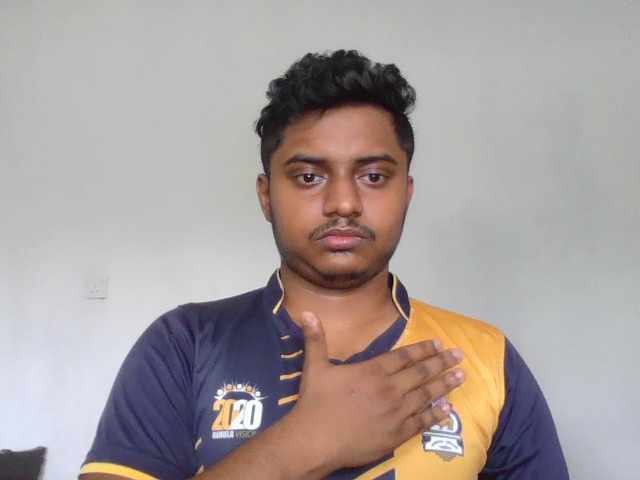Please: (299, 309, 469, 469)
